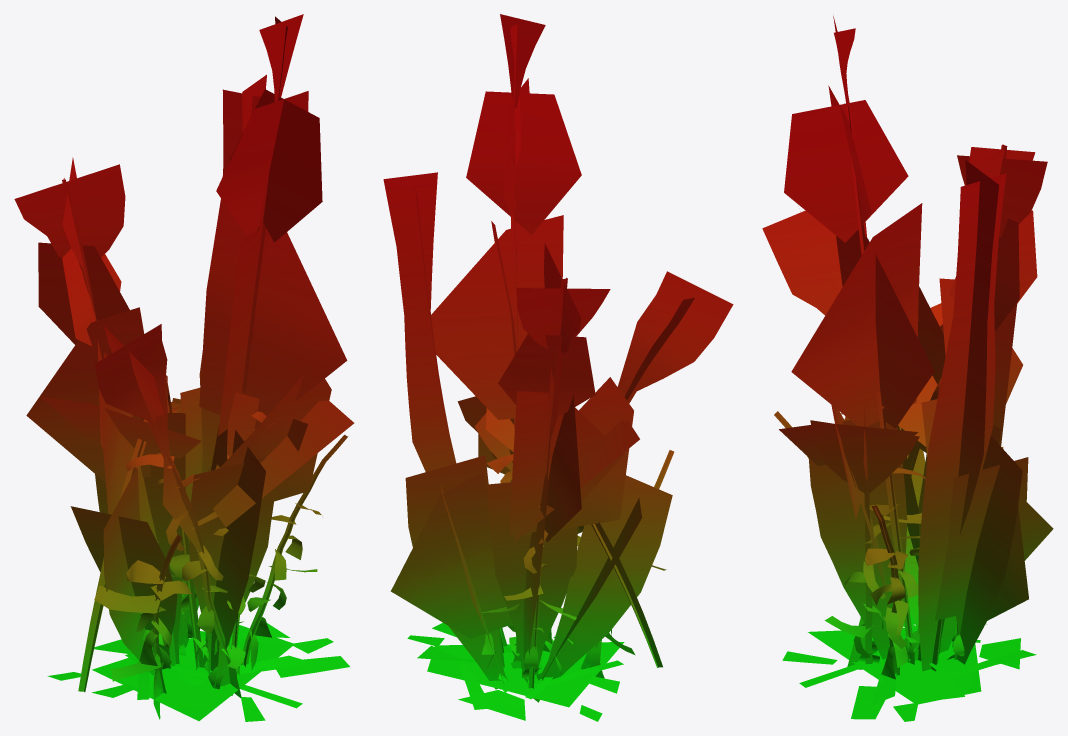
Rendered from Willowherb_LOD0_Var1_tbfpbbhr.fbx.
3 renders of one model, left to right at view 1: azimuth 30°, elevation 25°; view 2: azimuth 150°, elevation 25°; view 3: azimuth 270°, elevation 25°, orthographic. The views are drawn at different scales.
Visible parts, largest first — view 1: _7247_Var1_LOD0; view 2: _7247_Var1_LOD0; view 3: _7247_Var1_LOD0.
Part boxes in pixels (x1=…): _7247_Var1_LOD0: x1=14, y1=14, x2=354, y2=721; _7247_Var1_LOD0: x1=383, y1=14, x2=733, y2=721; _7247_Var1_LOD0: x1=762, y1=16, x2=1053, y2=721.
Size of the model in its own units: 12.28 by 28.04 by 10.66.
